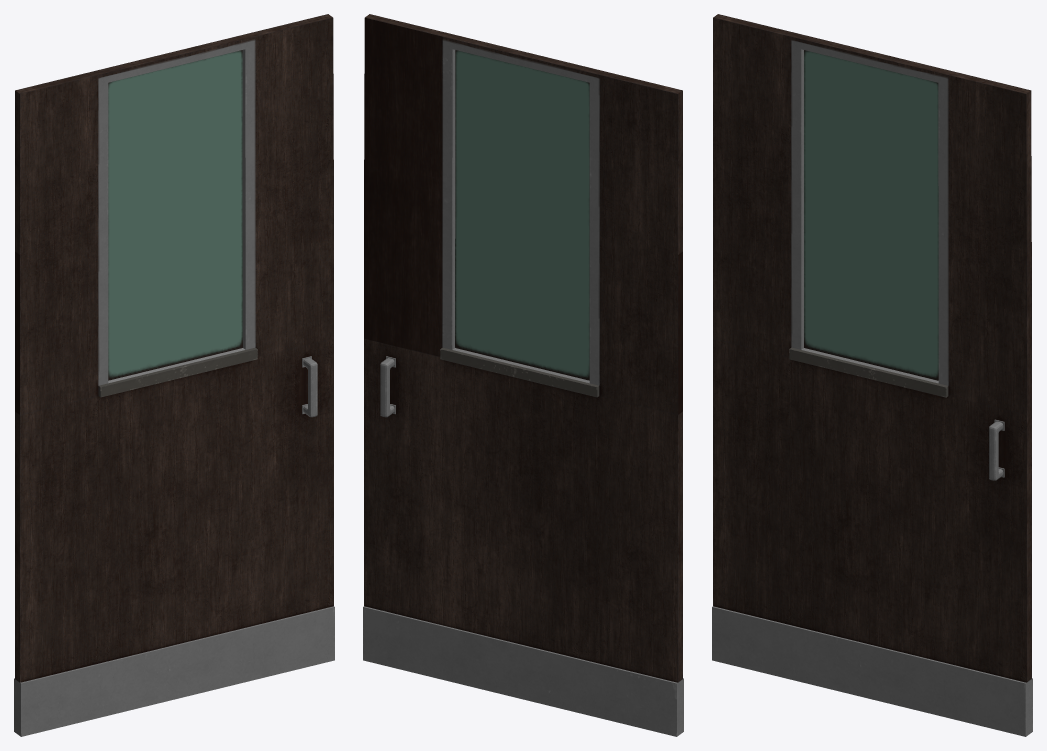
The model's file is Single_Door.fbx.
The picture shows the model from 3 angles, left to right: view 1: azimuth 30°, elevation 25°; view 2: azimuth 150°, elevation 25°; view 3: azimuth 330°, elevation 25°; orthographic projection.
Parts seen in each view (by area): view 1: Single_Door; view 2: Single_Door; view 3: Single_Door.
Part boxes in pixels (box(x1,y1,x2,y2)): Single_Door: box(14, 14, 334, 736); Single_Door: box(363, 14, 683, 736); Single_Door: box(712, 14, 1032, 736).
Bounding box in the file's own units: 123 × 241 × 14.1.
